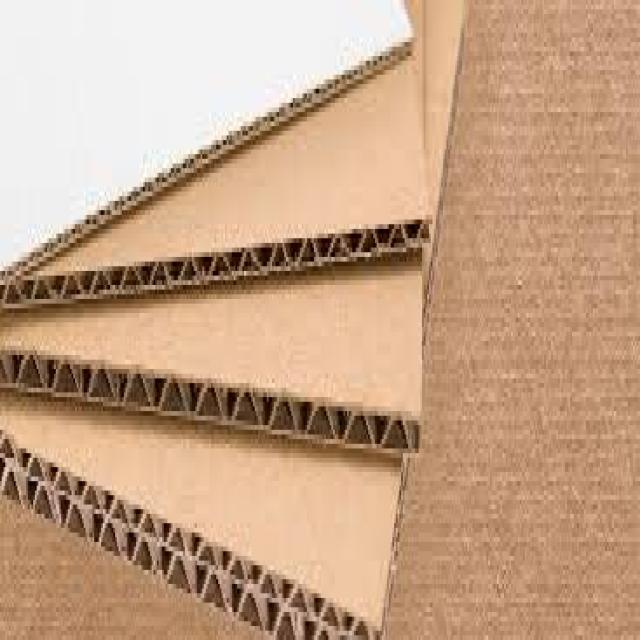Cardboard: (8, 6, 426, 306)
